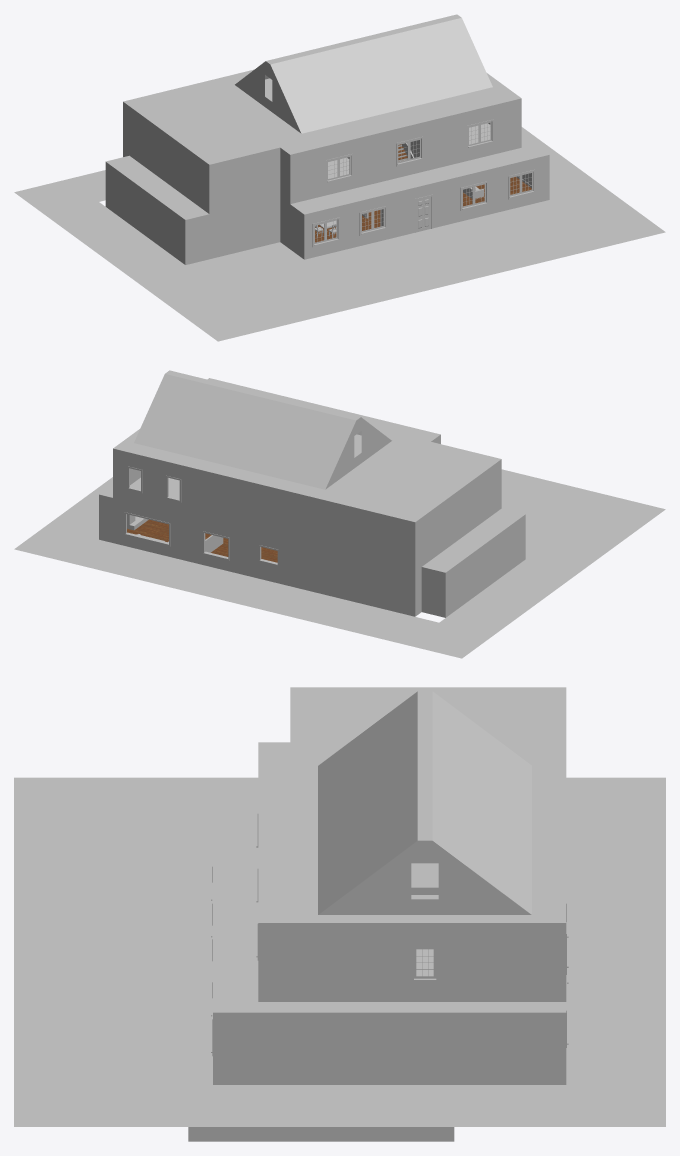
File: Haunted House Final V9 8-24-16.fbx
3 views of the same model, one above another, from view 1: azimuth 30°, elevation 25°; view 2: azimuth 150°, elevation 25°; view 3: azimuth 270°, elevation 25° (orthographic). The views are drawn at different scales.
Parts seen in each view (by area): view 1: Exterior, Grass, GroundFloor_Floor, SecondFloor_Floor, Door; view 2: Exterior, Grass, GroundFloor_Floor; view 3: Exterior, Grass, Basement_Walls, Attic.
Boxes of the visible parts, bbox=[...] form: Exterior: bbox=[105, 14, 549, 264]; Grass: bbox=[14, 127, 665, 341]; GroundFloor_Floor: bbox=[315, 177, 531, 242]; SecondFloor_Floor: bbox=[328, 123, 490, 178]; Door: bbox=[416, 196, 430, 232]; Exterior: bbox=[99, 370, 525, 617]; Grass: bbox=[14, 469, 665, 658]; GroundFloor_Floor: bbox=[127, 519, 277, 562]; Exterior: bbox=[213, 687, 566, 1084]; Grass: bbox=[14, 777, 665, 1126]; Basement_Walls: bbox=[188, 1127, 454, 1141]; Attic: bbox=[411, 863, 438, 900].
Size of the model in its own units: 3323 by 1332 by 2620.
